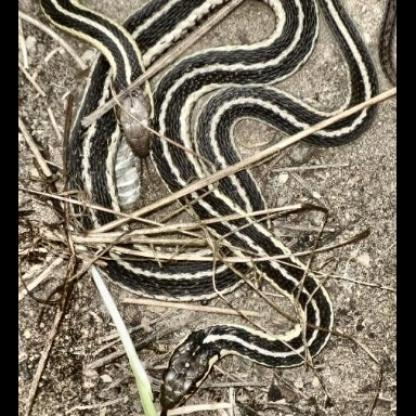Snake: (40, 3, 381, 405)
